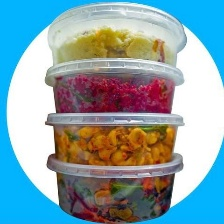plastic_box: (41, 145, 189, 224), (42, 0, 192, 71), (41, 105, 189, 173), (39, 52, 189, 118)
